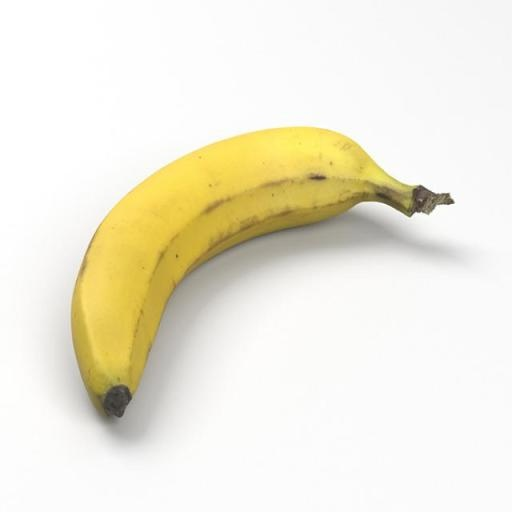fruit: (71, 128, 451, 415)
